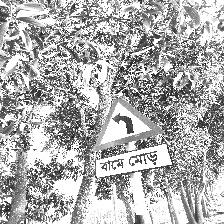Left-Turn: (91, 96, 173, 179)
